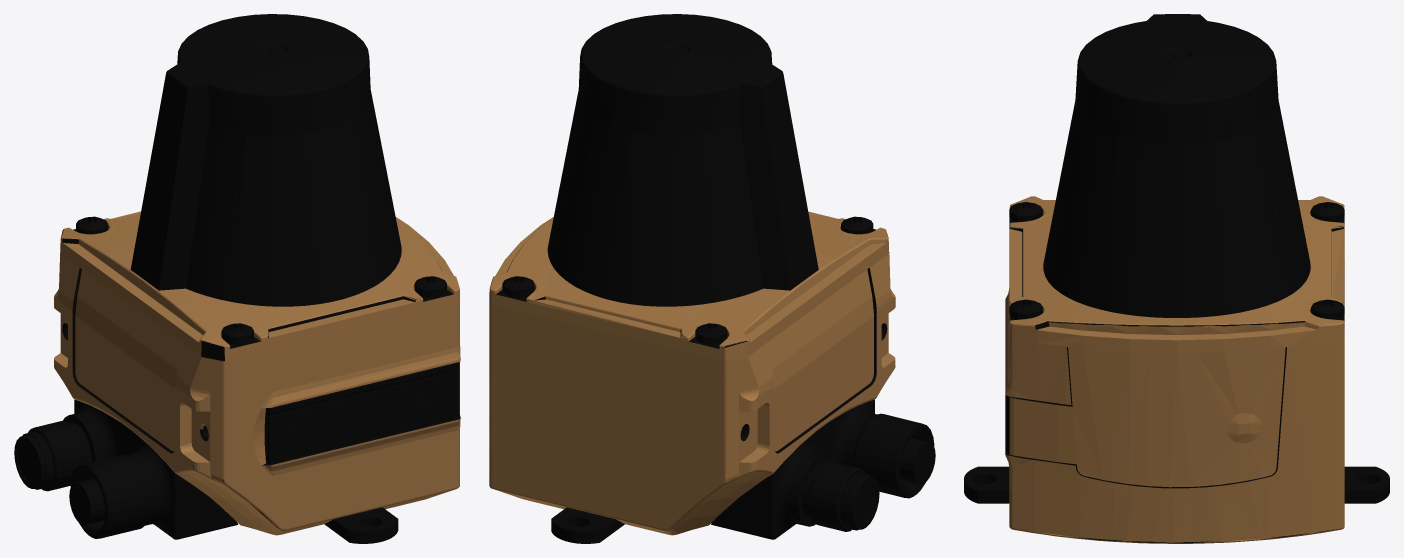
File: sick_tim.obj
3 renders of one model, left to right at view 1: azimuth 30°, elevation 25°; view 2: azimuth 150°, elevation 25°; view 3: azimuth 270°, elevation 25°, orthographic. The views are drawn at different scales.
Visible parts, largest first — view 1: sick_tim_sick tim; view 2: sick_tim_sick tim; view 3: sick_tim_sick tim.
Part boxes in pixels (x1,y1,x2,y2): sick_tim_sick tim: (14, 14, 460, 543); sick_tim_sick tim: (489, 14, 935, 543); sick_tim_sick tim: (964, 14, 1389, 543).
Size of the model in its own units: 0.0763 by 0.0858 by 0.0762.
